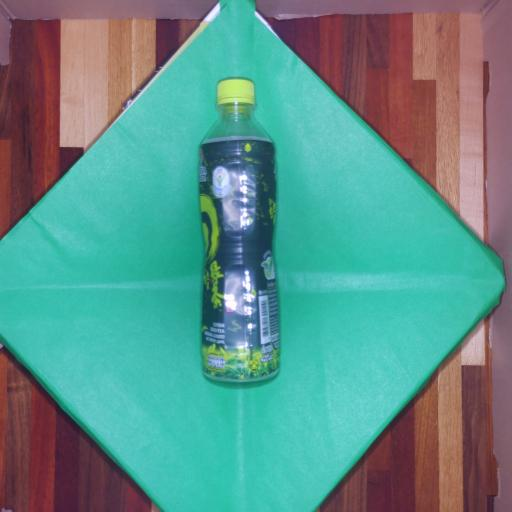bottle: (174, 65, 298, 403)
